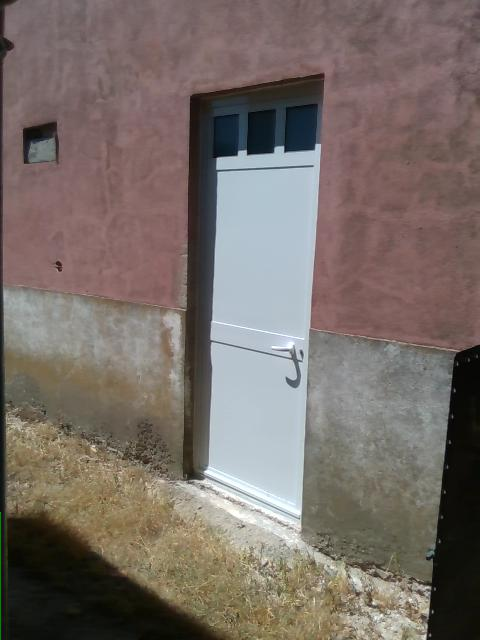door: (183, 70, 327, 542)
